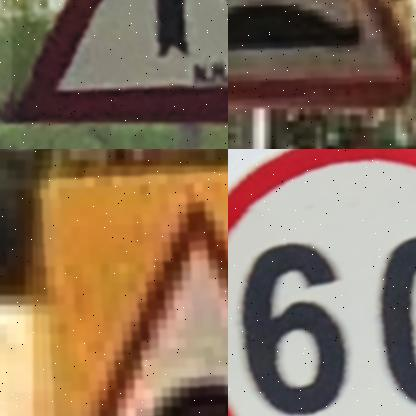Speed Breaker Ahead: (34, 168, 228, 416), (228, 0, 412, 104)
Speed Limit -60 kmph-: (228, 149, 416, 416)
